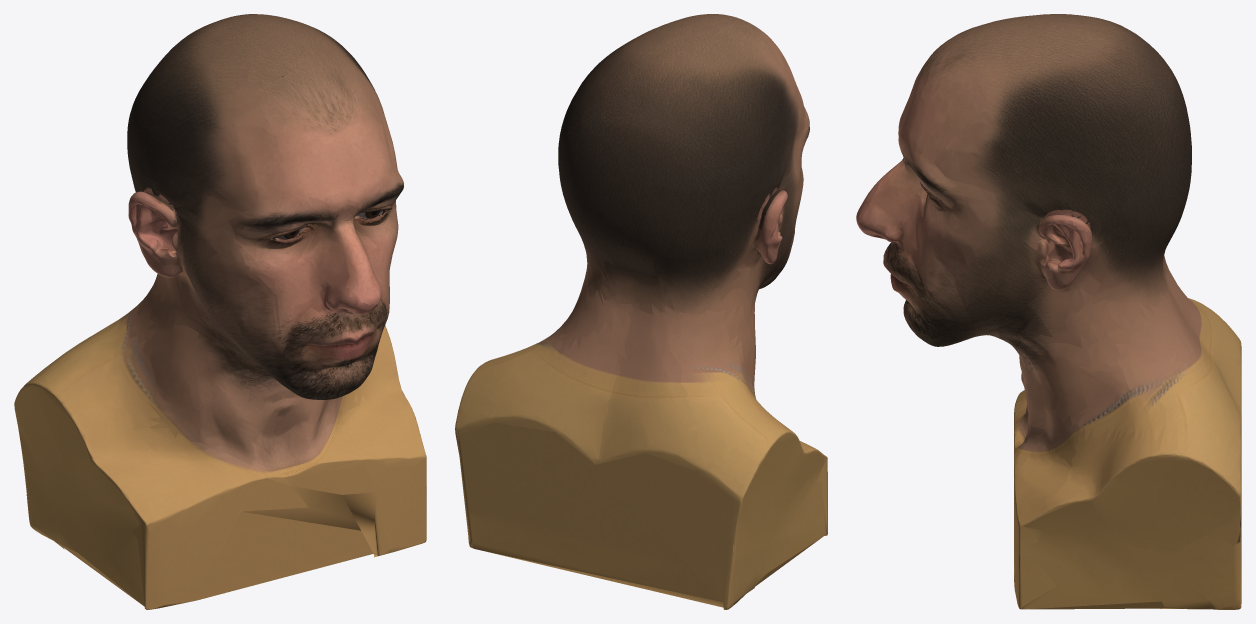
File: hero-head.glb
3 renders of one model, left to right at view 1: azimuth 30°, elevation 25°; view 2: azimuth 150°, elevation 25°; view 3: azimuth 270°, elevation 25°, orthographic. The views are drawn at different scales.
Visible parts, largest first — view 1: output_unwrapped; view 2: output_unwrapped; view 3: output_unwrapped.
Part boxes in pixels (x1=…): output_unwrapped: x1=14, y1=14, x2=426, y2=609; output_unwrapped: x1=455, y1=14, x2=827, y2=609; output_unwrapped: x1=856, y1=14, x2=1241, y2=609.
Size of the model in its own units: 1.23 by 1.9 by 1.28.
Materials: 1 (1 with a texture image).
